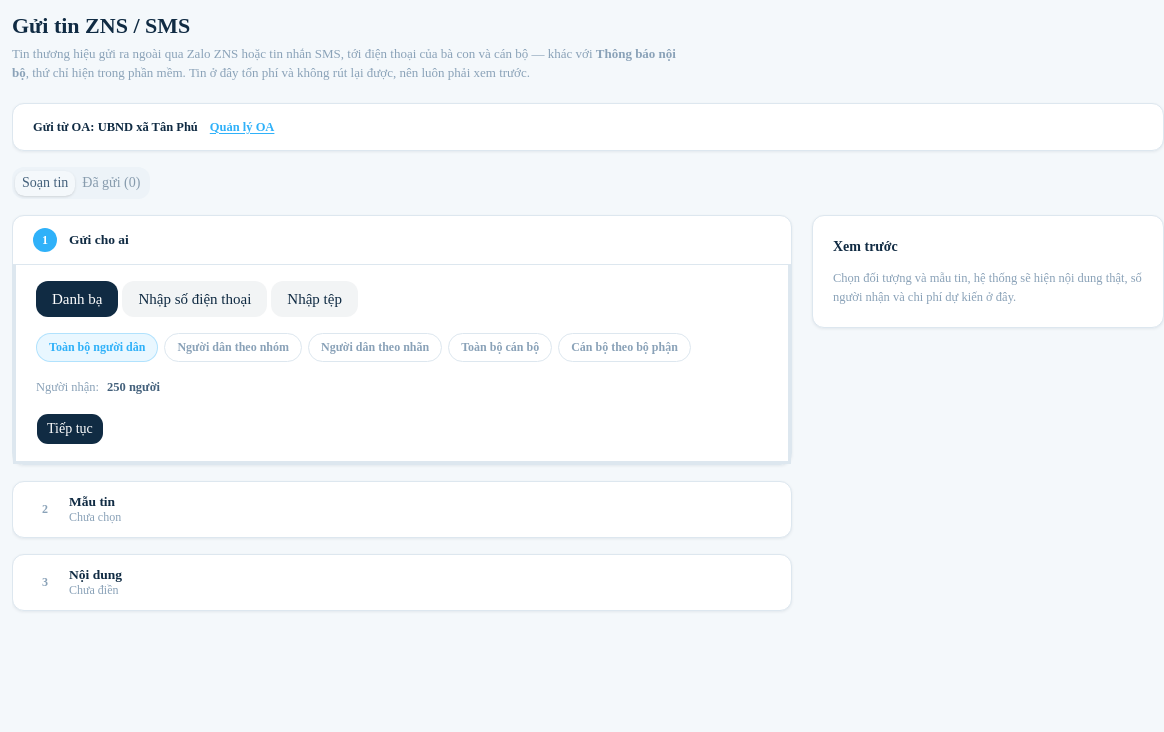
Test: the Đã gửi tab › empty: the prototype's sentence
The image size is (1164, 732).
Step 1. Click the tab "Đã gửi (0)" → click(111, 183), box [75,171,147,196]
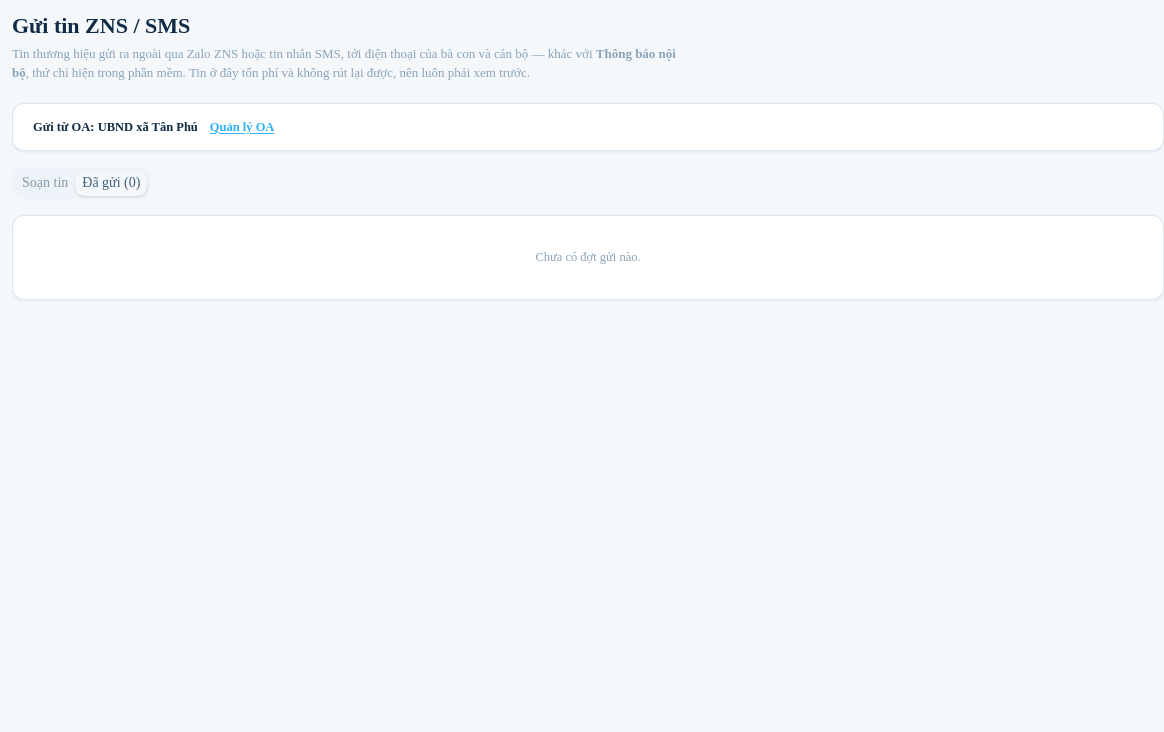
Result: the text "Chưa có đợt gửi nào." is shown at [535,250,641,264]
